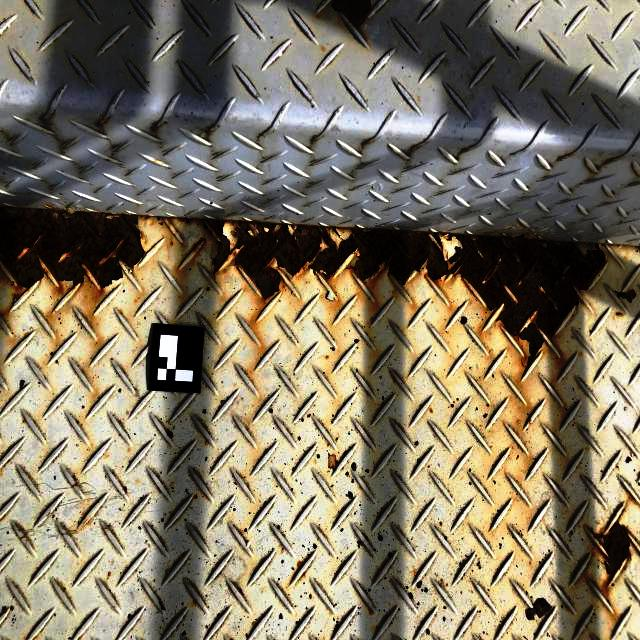Corrosion: (201, 220, 605, 359), (0, 209, 145, 288), (594, 524, 631, 587), (331, 0, 383, 39)
